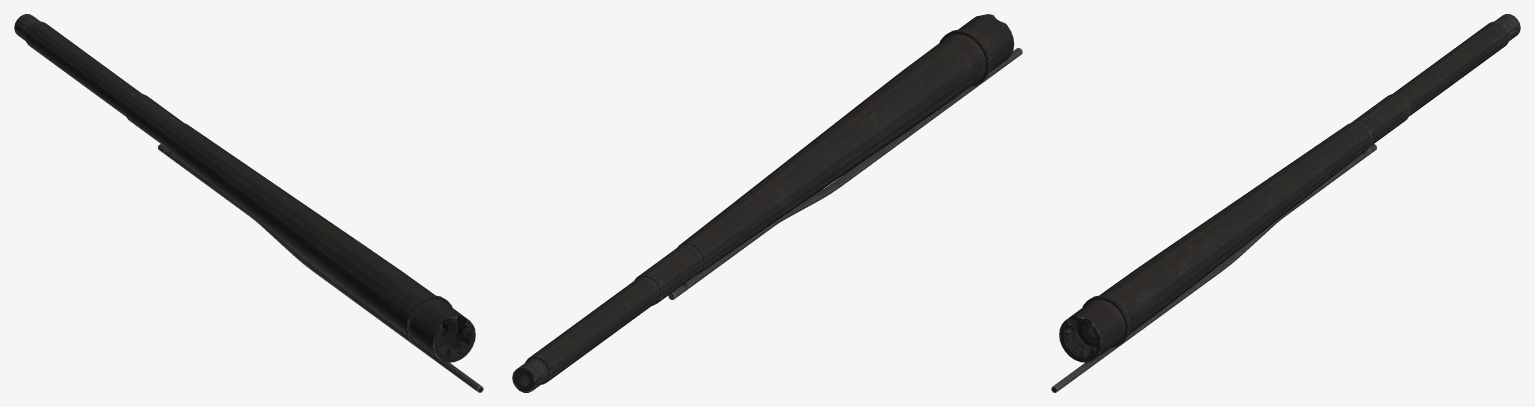
The picture shows the model from 3 angles, left to right: view 1: azimuth 30°, elevation 25°; view 2: azimuth 150°, elevation 25°; view 3: azimuth 330°, elevation 25°; orthographic projection. The views are drawn at different scales.
Visible parts, largest first — view 1: TW_5dfa397fb11454561e39246c_PZ_Import; view 2: TW_5dfa397fb11454561e39246c_PZ_Import; view 3: TW_5dfa397fb11454561e39246c_PZ_Import.
Part boxes in pixels (box(x1,y1,x2,y2)): TW_5dfa397fb11454561e39246c_PZ_Import: box(14, 14, 483, 392); TW_5dfa397fb11454561e39246c_PZ_Import: box(512, 14, 1022, 392); TW_5dfa397fb11454561e39246c_PZ_Import: box(1051, 14, 1520, 392).
Size of the model in its own units: 0.0199 by 0.3314 by 0.0237.
1 material, 1 textured.
